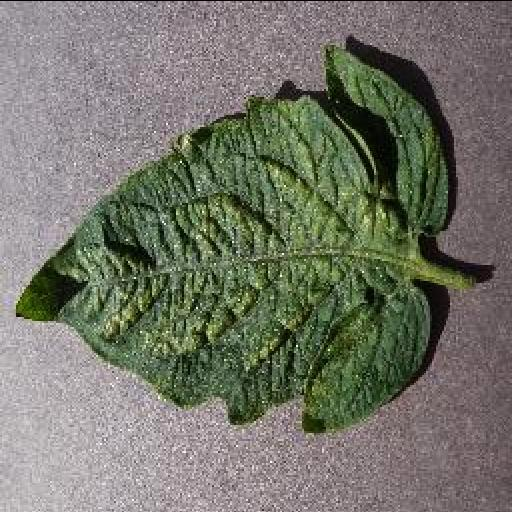disease_tomato: (14, 46, 452, 432)
